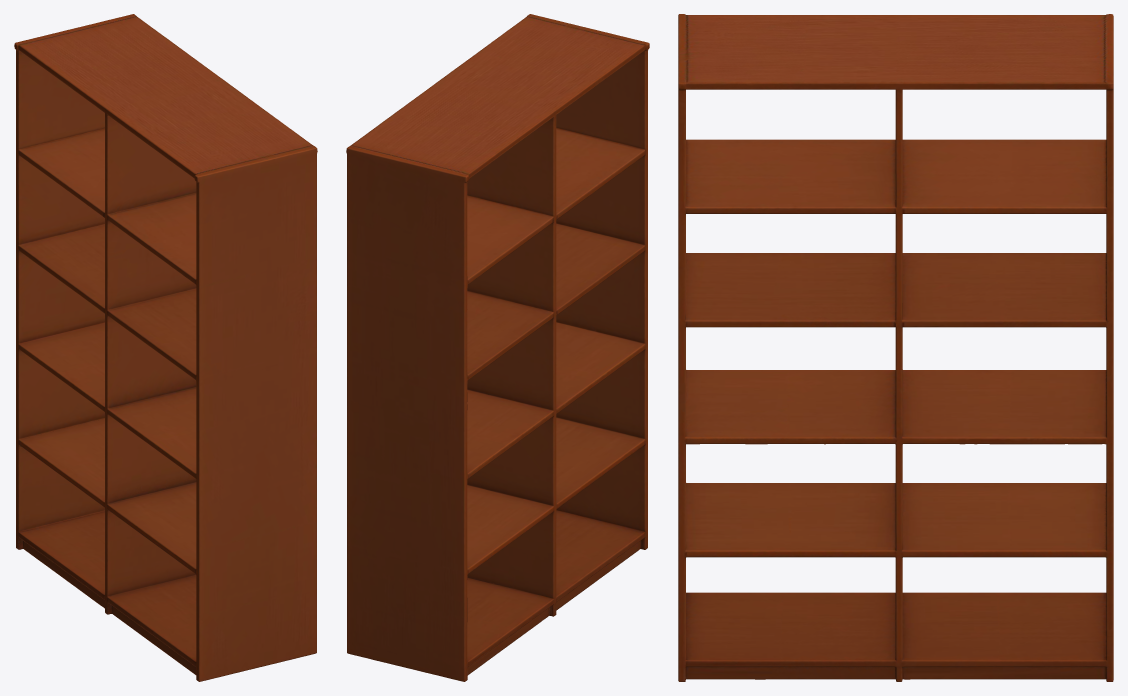
The model's file is tugokhongcanh.fbx.
3 renders of one model, left to right at view 1: azimuth 30°, elevation 25°; view 2: azimuth 150°, elevation 25°; view 3: azimuth 270°, elevation 25°, orthographic. The views are drawn at different scales.
Parts seen in each view (by area): view 1: tripo_node_30a2cb74; view 2: tripo_node_30a2cb74; view 3: tripo_node_30a2cb74.
Boxes of the visible parts, x1=… form: tripo_node_30a2cb74: x1=14, y1=14, x2=317, y2=681; tripo_node_30a2cb74: x1=346, y1=14, x2=649, y2=681; tripo_node_30a2cb74: x1=678, y1=14, x2=1113, y2=681.
Bounding box in the file's own units: 24.98 × 100 × 65.81.
1 material, 1 textured.
